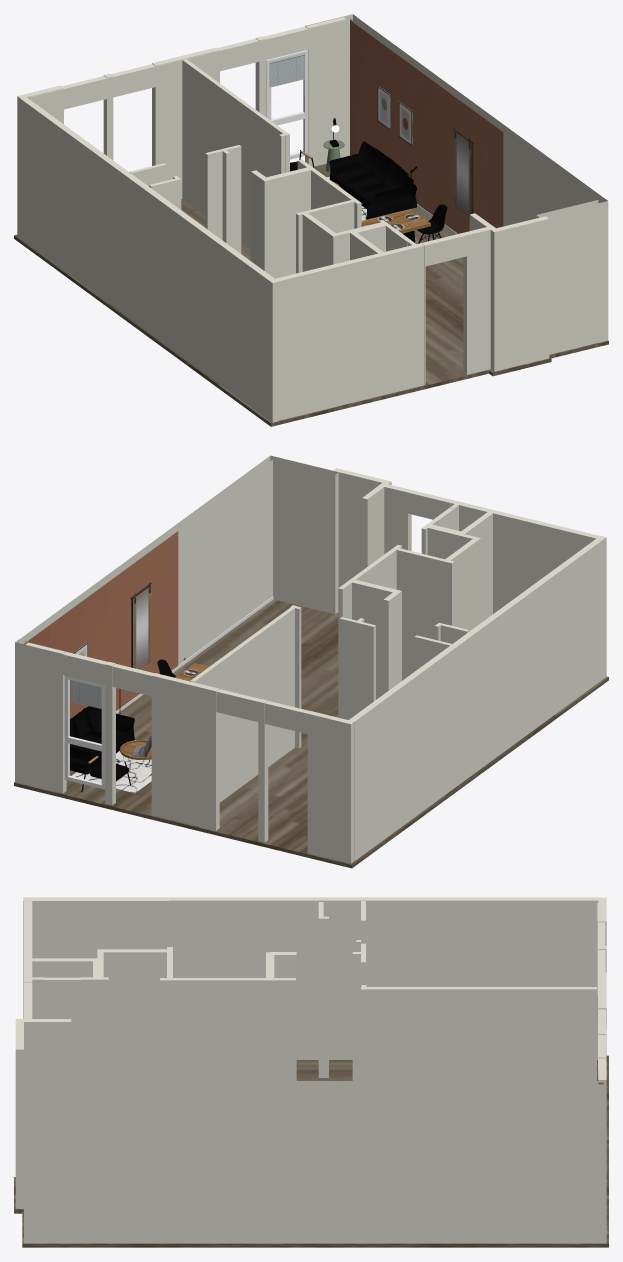
3 renders of one model, top to bottom at view 1: azimuth 30°, elevation 25°; view 2: azimuth 150°, elevation 25°; view 3: azimuth 270°, elevation 25°, orthographic. The views are drawn at different scales.
Visible parts, largest first — view 1: Box009, Box1860, Box002, Object889017_24 - Dkkkefault_0, HSM0012, Box1868, Box1819_22 - Defaulttee_0, Plane037, Box1824; view 2: Box009, Box002, Box1860, Object889017_24 - Dkkkefault_0, HSM0012, Box1819_22 - Defaulttee_0, Box1868, Box1784, Plane037; view 3: Box009, Box002, Object889017_24 - Dkkkefault_0.
Part boxes in pixels (x1=…): Box009: x1=17, y1=14, x2=608, y2=422; Box1860: x1=347, y1=18, x2=503, y2=233; Box002: x1=14, y1=163, x2=608, y2=426; Object889017_24 - Dkkkefault_0: x1=29, y1=17, x2=346, y2=112; HSM0012: x1=329, y1=141, x2=416, y2=215; Box1868: x1=453, y1=127, x2=474, y2=219; Box1819_22 - Defaulttee_0: x1=266, y1=50, x2=308, y2=159; Plane037: x1=269, y1=53, x2=304, y2=95; Box1824: x1=361, y1=209, x2=430, y2=233; Box009: x1=15, y1=455, x2=606, y2=863; Box002: x1=14, y1=599, x2=608, y2=868; Box1860: x1=24, y1=531, x2=178, y2=718; Object889017_24 - Dkkkefault_0: x1=24, y1=642, x2=310, y2=733; HSM0012: x1=70, y1=706, x2=134, y2=774; Box1819_22 - Defaulttee_0: x1=64, y1=675, x2=105, y2=789; Box1868: x1=130, y1=582, x2=151, y2=669; Box1784: x1=72, y1=740, x2=151, y2=793; Plane037: x1=71, y1=680, x2=101, y2=718; Box009: x1=15, y1=897, x2=606, y2=1243; Box002: x1=14, y1=1055, x2=608, y2=1247; Object889017_24 - Dkkkefault_0: x1=597, y1=903, x2=606, y2=1084.
Bounding box in the file's own units: 0.9447 × 0.3886 × 1.26.
28 materials, 20 textured.
